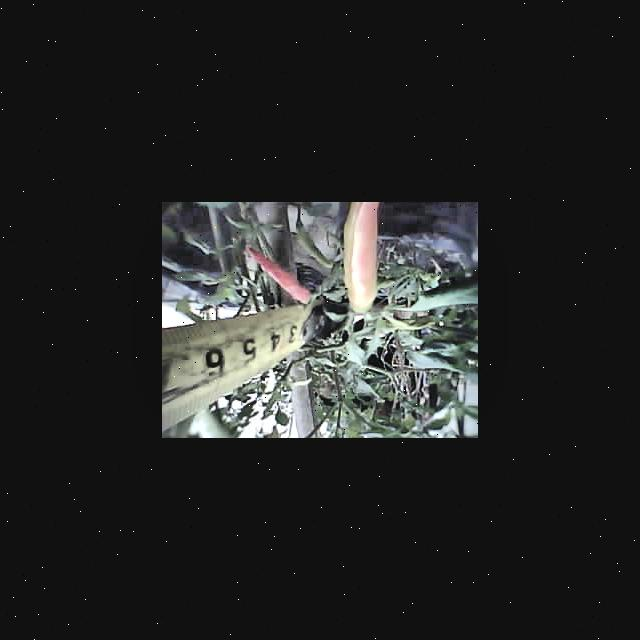Cabai: (342, 202, 386, 309), (251, 250, 317, 305)
